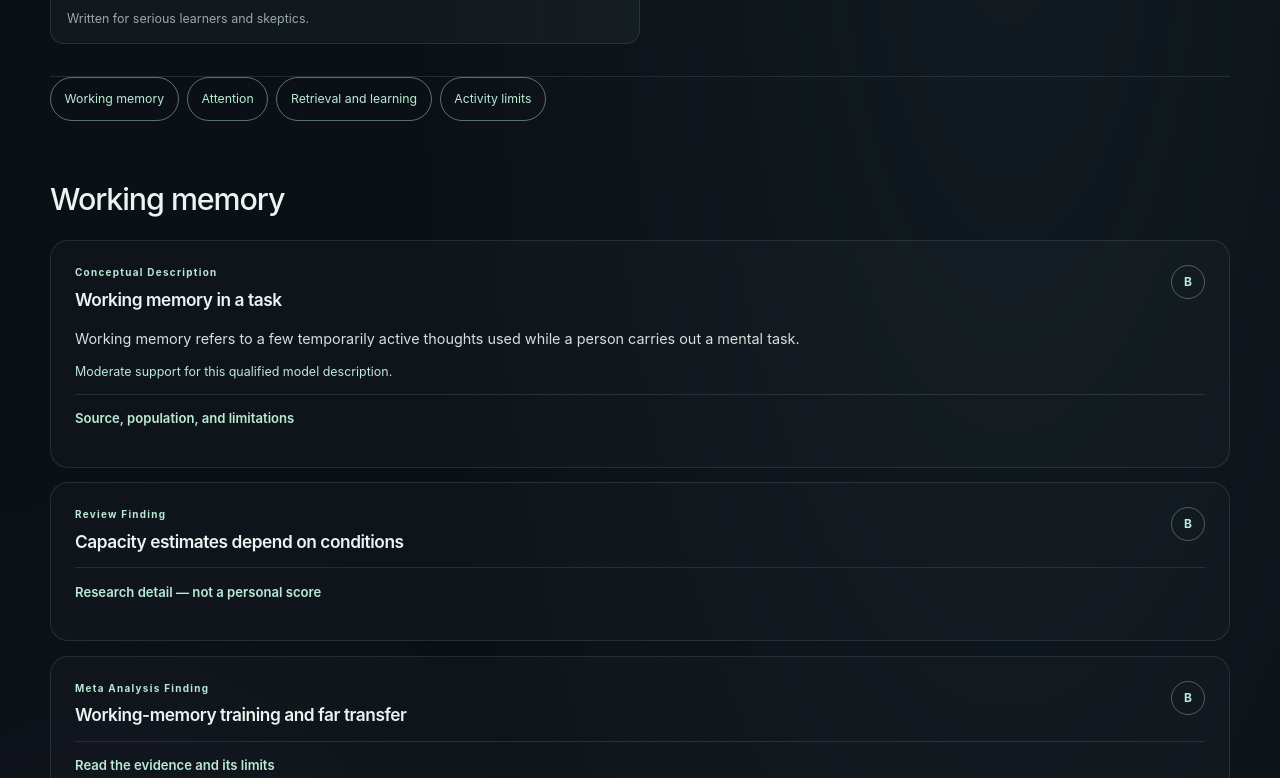
learning journey pages › shows the activity’s non-measures separately from research claims
(page scrolled)
What coordinates should you click on to do the following:
click the heading "Source, population, and limitations"
I would click on:
 (185, 418)
Its box is [75,410,294,426].
(page scrolled)
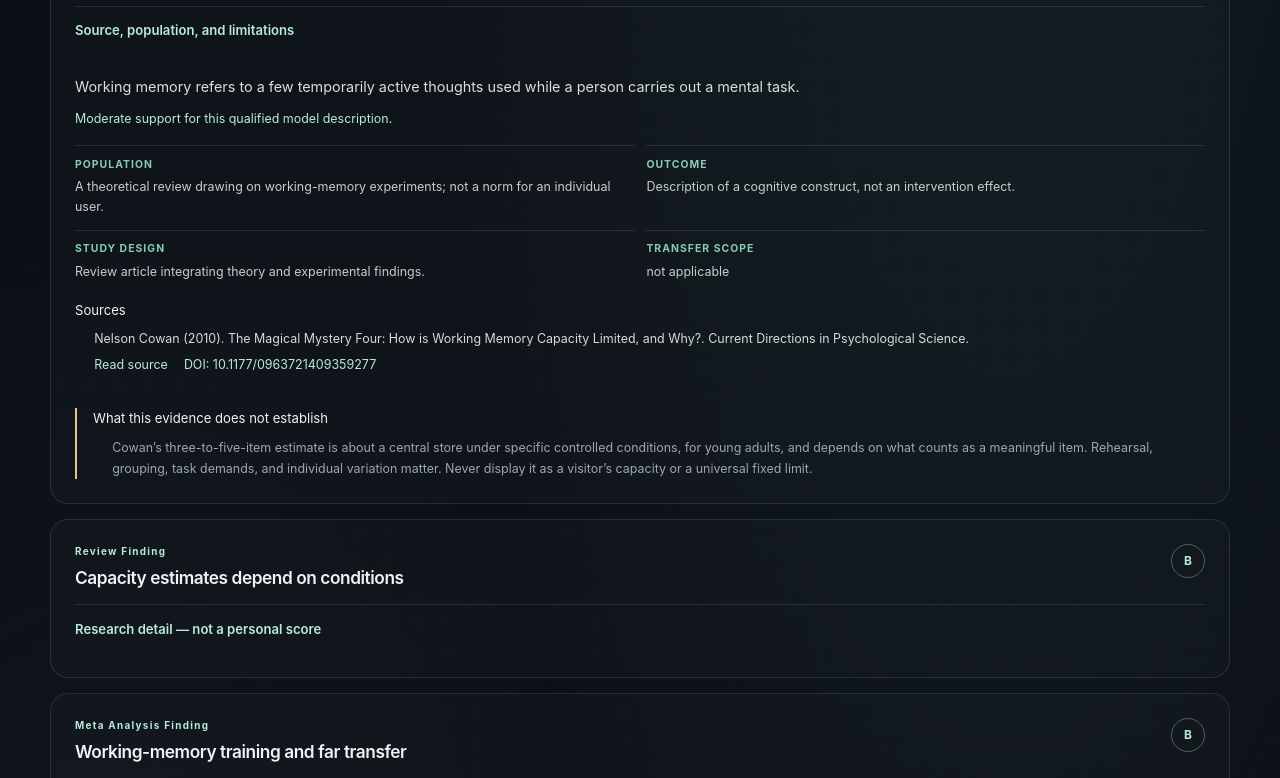
Check: the link "DOI: 10.1177/0963721409359277" is shown, box [184,357,496,372]
Check: the heading "What this evidence does not establish" is shown, box [93,410,328,426]
